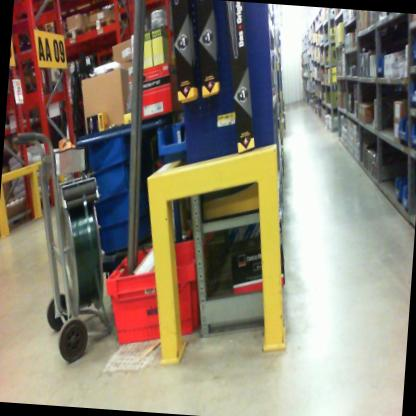pallet: (56, 20, 98, 64), (84, 12, 129, 53)
small_load_carrier: (101, 235, 218, 350)
